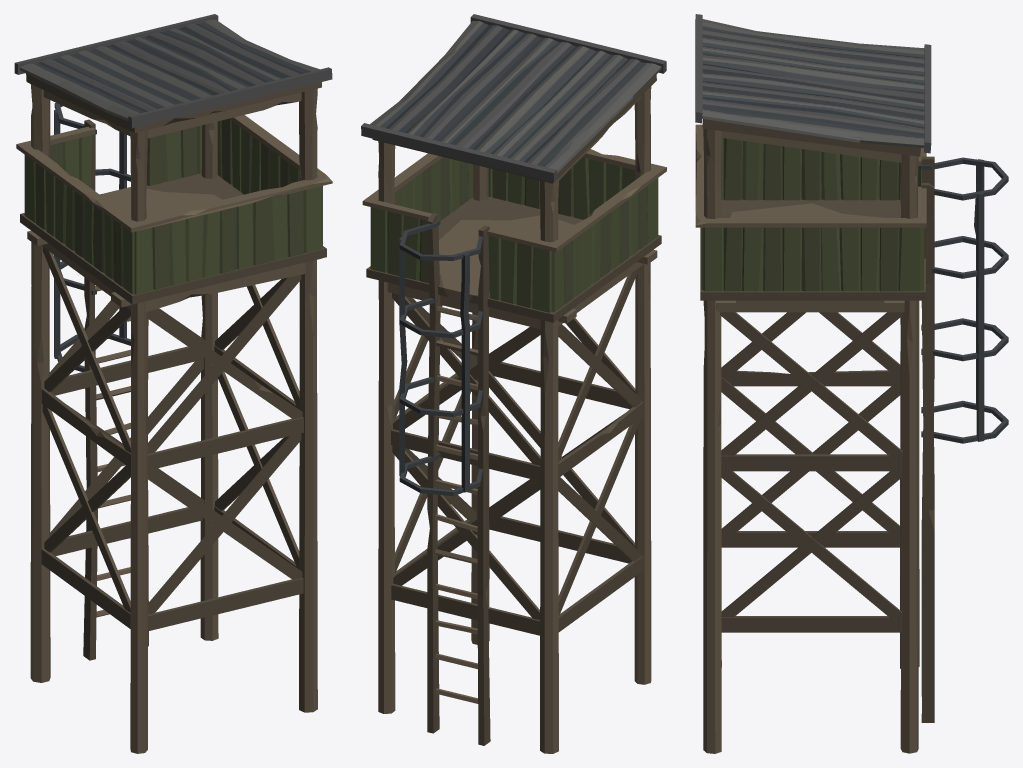
File: SM_Bld_GuardTower_01.glb
3 renders of one model, left to right at view 1: azimuth 30°, elevation 25°; view 2: azimuth 150°, elevation 25°; view 3: azimuth 270°, elevation 25°, orthographic. The views are drawn at different scales.
Visible parts, largest first — view 1: SM_Bld_GuardTower_01; view 2: SM_Bld_GuardTower_01; view 3: SM_Bld_GuardTower_01.
Boxes of the visible parts, x1=… form: SM_Bld_GuardTower_01: x1=14, y1=14, x2=332, y2=753; SM_Bld_GuardTower_01: x1=361, y1=14, x2=666, y2=753; SM_Bld_GuardTower_01: x1=695, y1=14, x2=1008, y2=753.
Size of the model in its own units: 2.9 by 8.86 by 3.9.
Materials: 1 (1 with a texture image).
